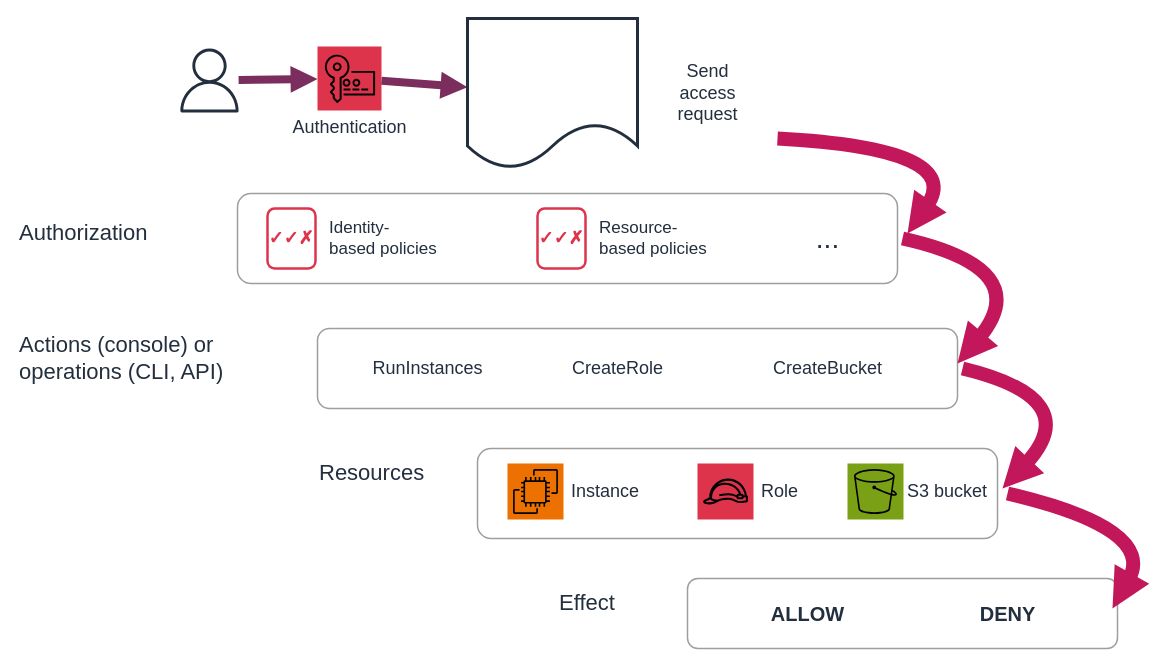
Image size: 1160x667. Some labels were removed from this diagram. Here are the shapes that lost their labels. From the top down, the centre of each, then its label:
At (209,80): "User".
At (552,93): "Actions - - - - - Resources - - - - - Request info".
